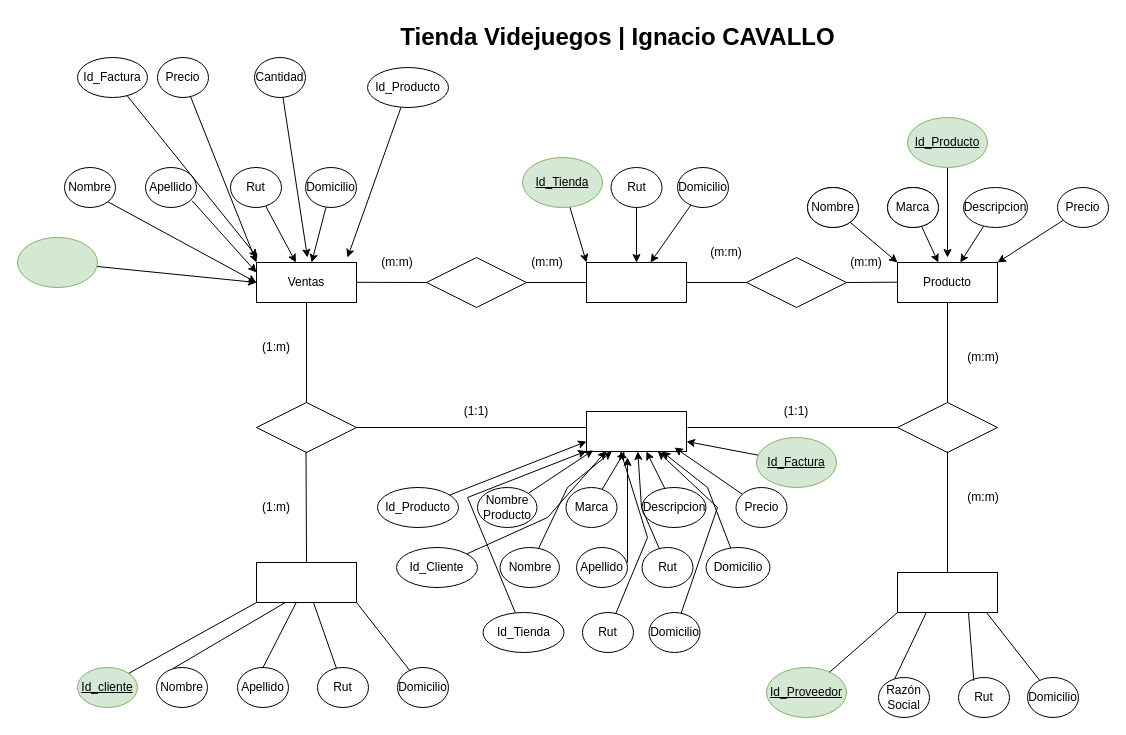
Some shapes in this 1126 by 735 pixel diagram are drawn without their labels. The centre of each missing label's shape, as x and y in pixels:
"Almacena" goes at point (796, 282).
"Cliente" goes at point (306, 582).
"Compra" goes at point (947, 427).
"Factura" goes at point (636, 431).
"Id_Venta" goes at point (57, 262).
"Proveedor" goes at point (947, 592).
"Realiza" goes at point (476, 282).
"Tienda" goes at point (636, 282).
"Vende" goes at point (306, 427).
